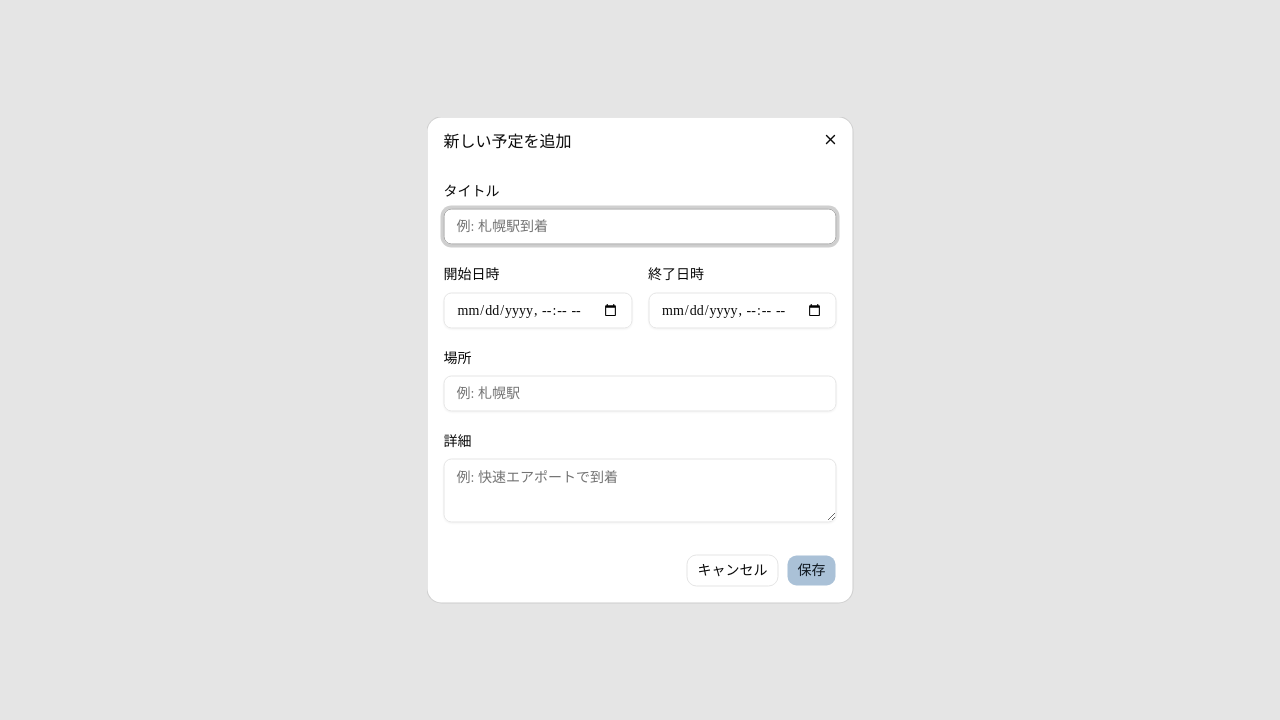
Test: EventModal › 終了日時が開始日時より前なら保存されずエラーが表示されること
Type "逆転した予定" into the field labelled "タイトル" at (640, 227), box [444,209,836,245]
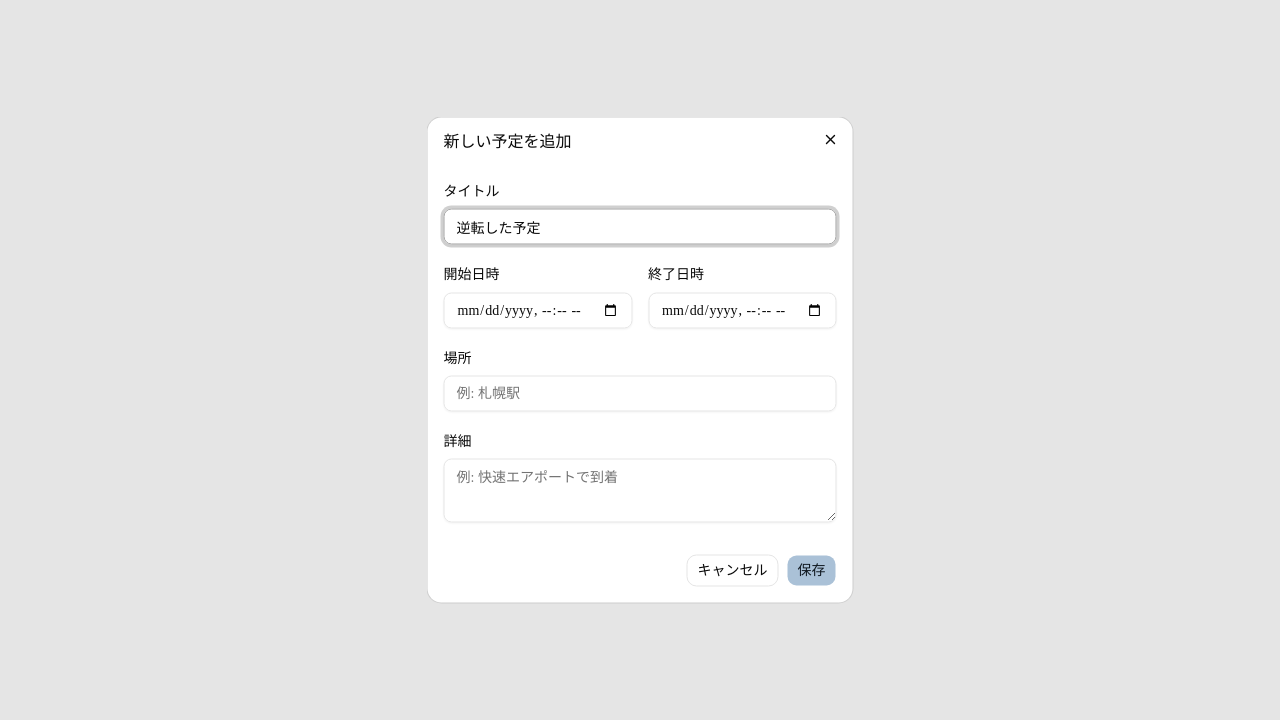
Type "2026-05-01T12:00" into the field labelled "開始日時" at (538, 310), box [444,292,632,328]
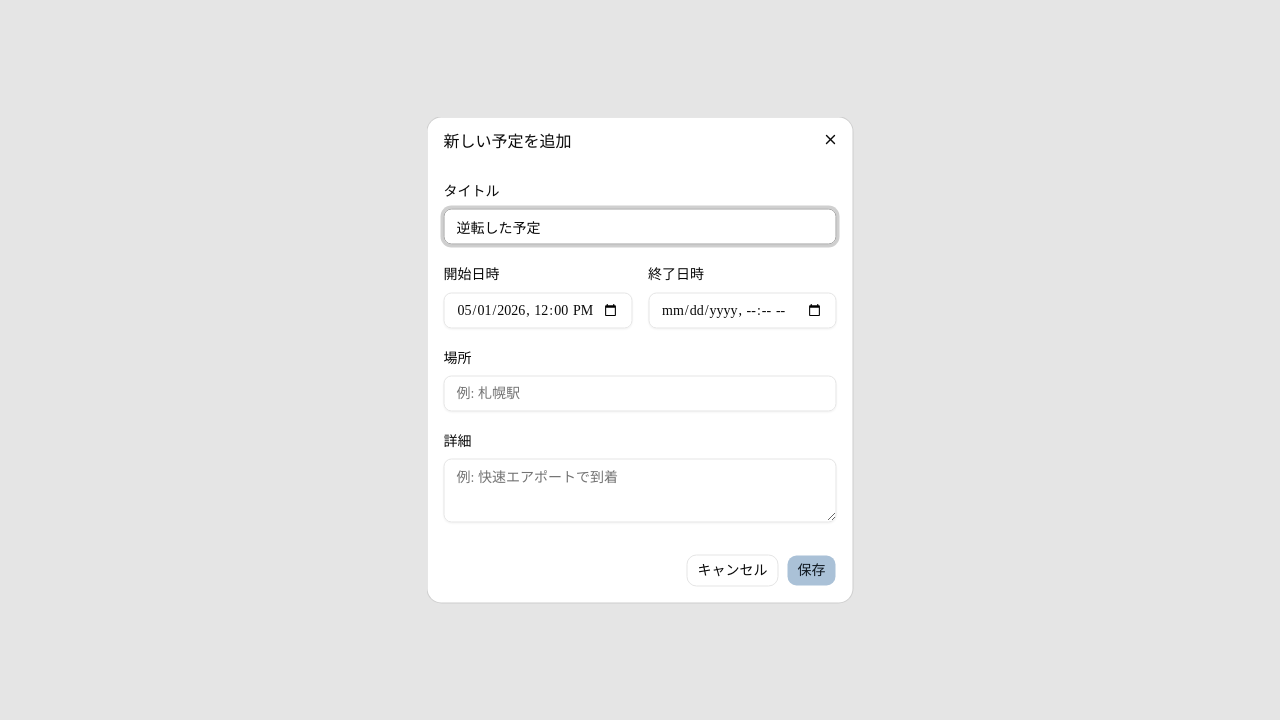
Type "2026-05-01T10:00" into the field labelled "終了日時" at (742, 310), box [648,292,836,328]
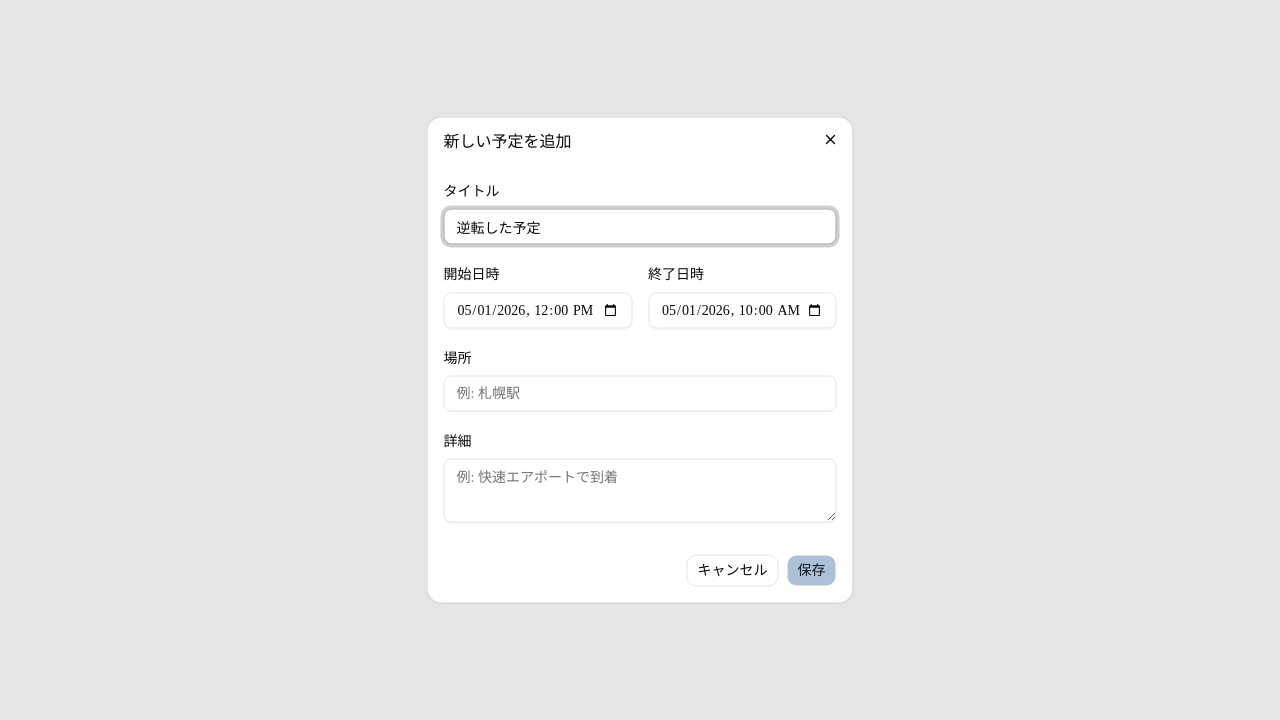
Click the button "保存" at (812, 570), box [786,554,836,586]
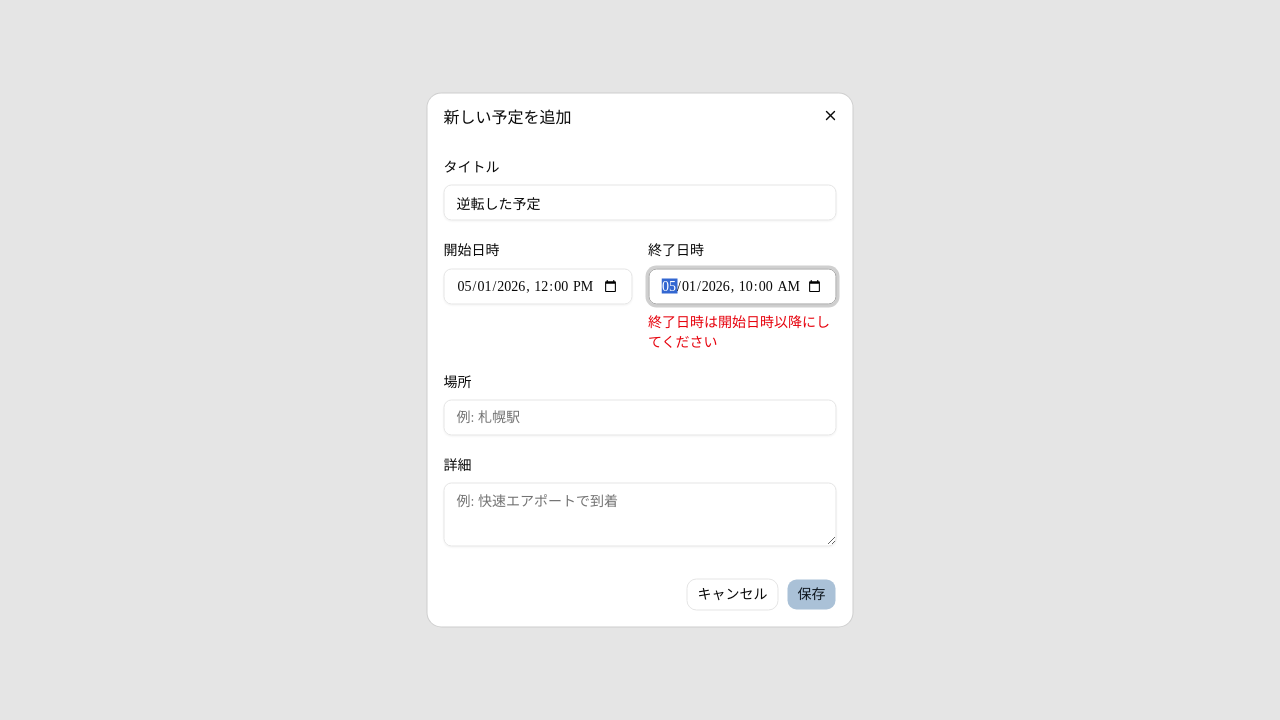
Expected: the text "終了日時は開始日時以降にしてください" is shown, [648,312,836,352]
